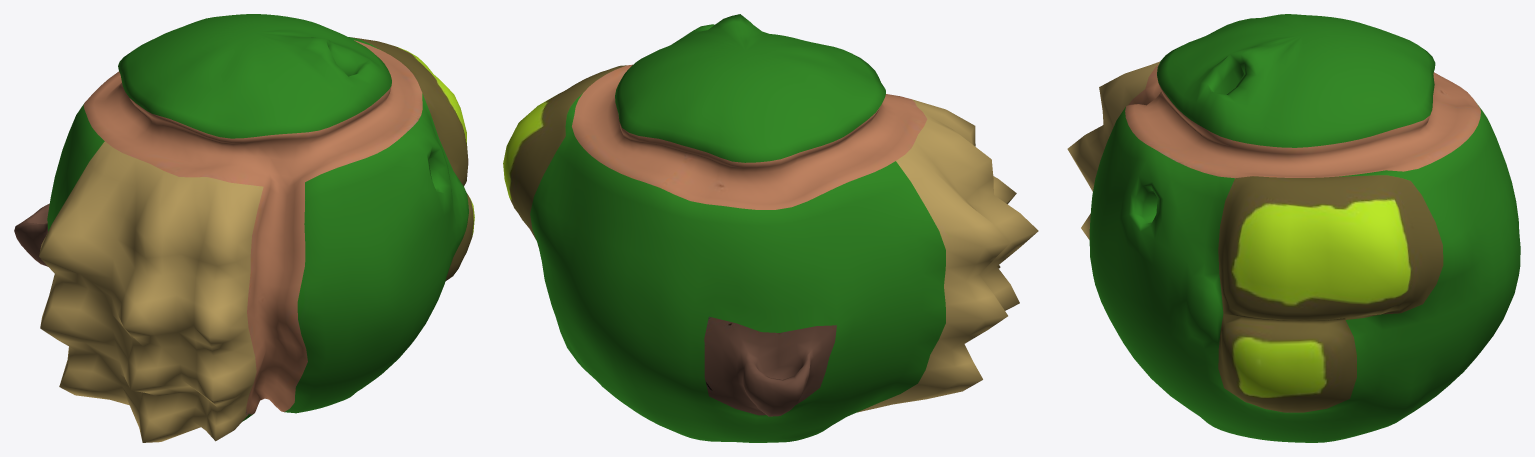
File: planetita.fbx
3 views of the same model, side by side, from view 1: azimuth 30°, elevation 25°; view 2: azimuth 150°, elevation 25°; view 3: azimuth 270°, elevation 25° (orthographic). The views are drawn at different scales.
Parts seen in each view (by area): view 1: Sphere001; view 2: Sphere001; view 3: Sphere001.
Part boxes in pixels (left/top/right/bottom): Sphere001: left=14, top=14, right=474, bottom=442; Sphere001: left=503, top=14, right=1038, bottom=442; Sphere001: left=1067, top=14, right=1520, bottom=442.
Size of the model in its own units: 60690 by 46562 by 51462.
